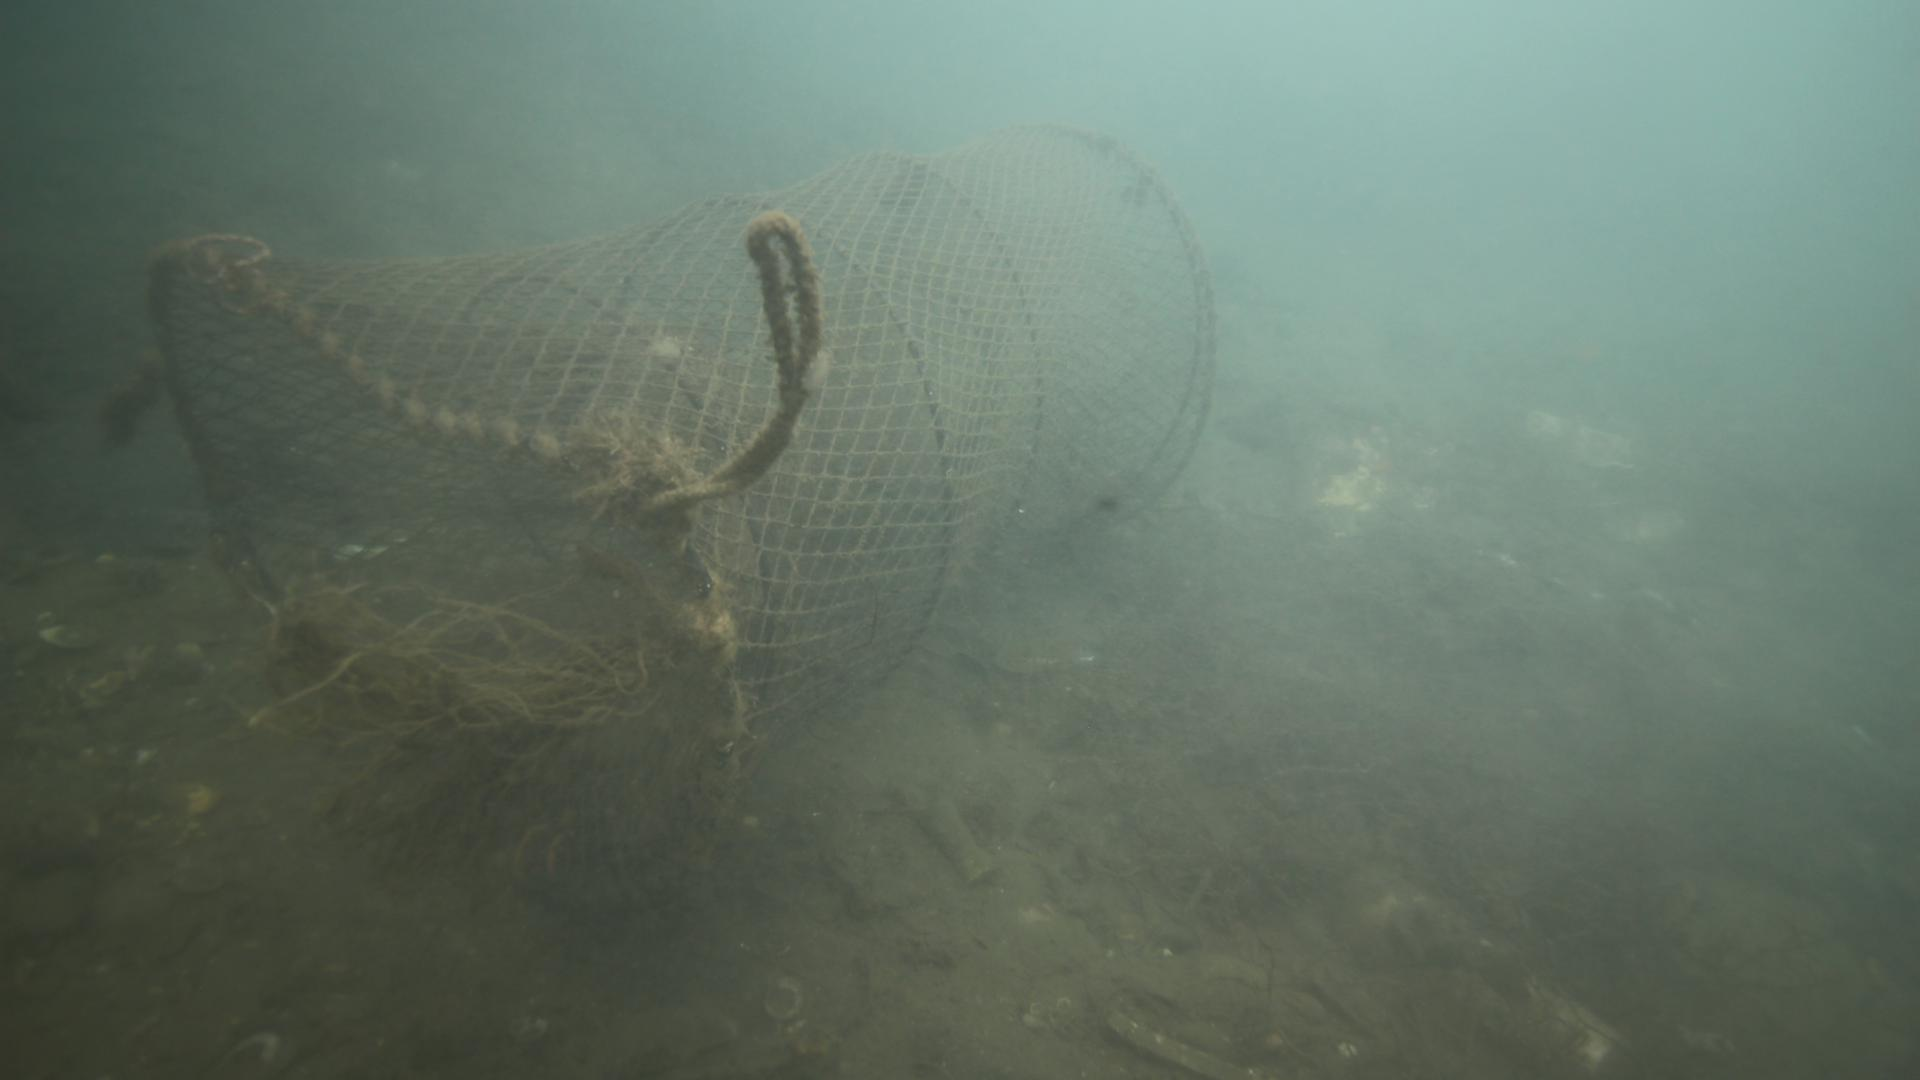bundle of ropes: (694, 211, 825, 521)
spring fish trap: (136, 119, 1209, 890)
